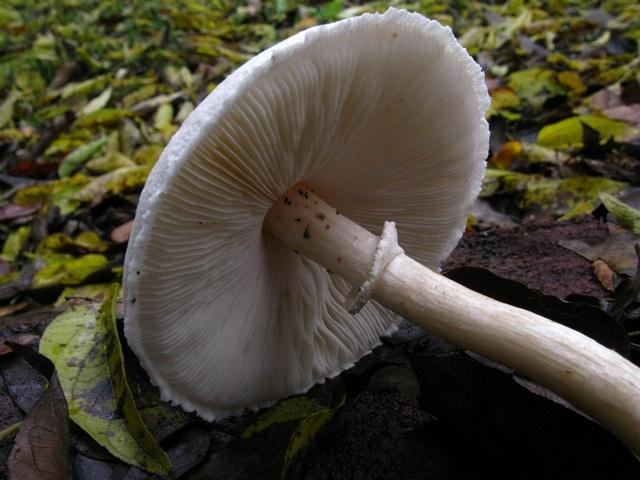poisonous_mushroom: (128, 0, 640, 426)
